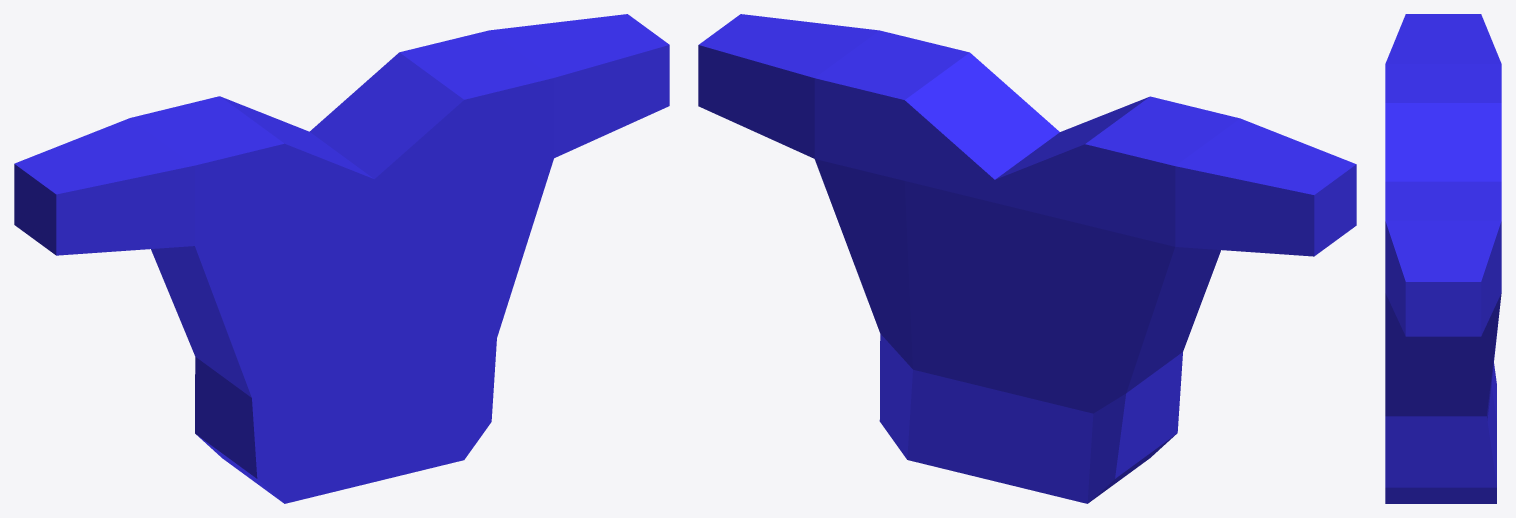
The model's file is Tshirt.fbx.
3 views of the same model, side by side, from view 1: azimuth 30°, elevation 25°; view 2: azimuth 150°, elevation 25°; view 3: azimuth 270°, elevation 25° (orthographic). The views are drawn at different scales.
Visible parts, largest first — view 1: Cube.001; view 2: Cube.001; view 3: Cube.001.
Boxes of the visible parts, x1,y1,x2,y2 form: Cube.001: (14, 14, 669, 503); Cube.001: (698, 14, 1356, 503); Cube.001: (1385, 14, 1501, 503).
Bounding box in the file's own units: 744 × 418 × 136.
